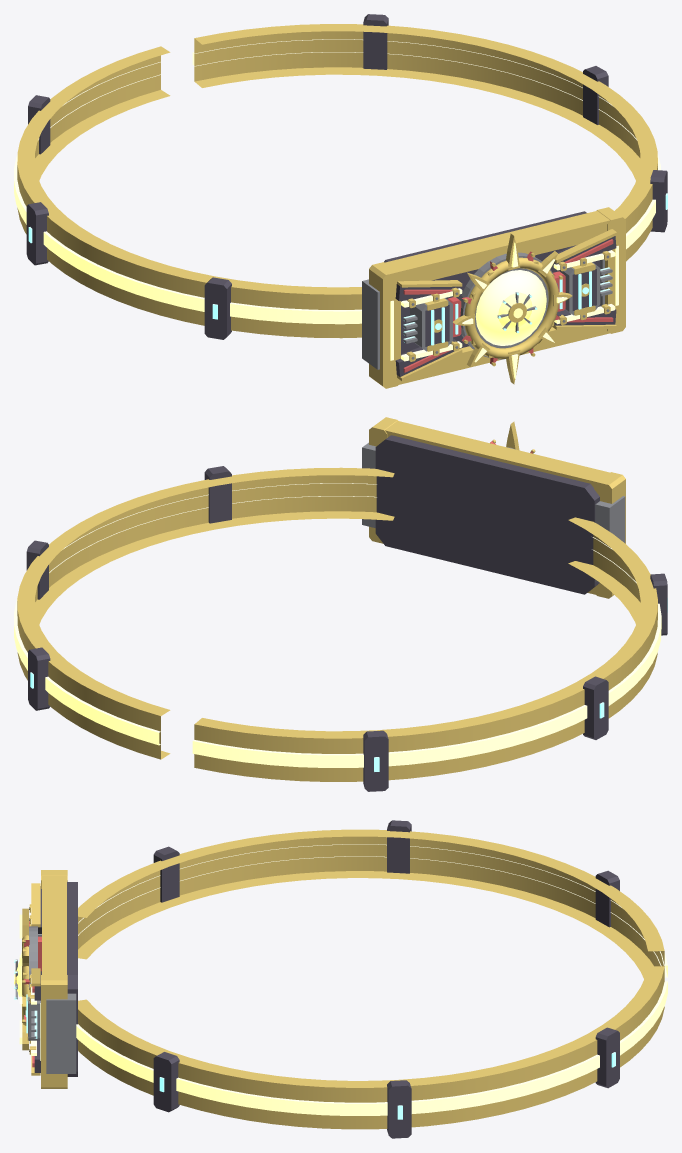
Rendered from solar_driver.glb.
The picture shows the model from 3 angles, top to bottom: view 1: azimuth 30°, elevation 25°; view 2: azimuth 150°, elevation 25°; view 3: azimuth 270°, elevation 25°; orthographic projection. The views are drawn at different scales.
Parts seen in each view (by area): view 1: DriverBuckle, BeltStrap_Left, BeltStrap_Right; view 2: DriverBuckle, BeltStrap_Right, BeltStrap_Left; view 3: BeltStrap_Left, BeltStrap_Right, DriverBuckle.
Boxes of the visible parts, left/top/right/bottom form: DriverBuckle: left=362, top=207, right=625, bottom=388; BeltStrap_Left: left=192, top=14, right=667, bottom=261; BeltStrap_Right: left=14, top=46, right=361, bottom=339; DriverBuckle: left=362, top=417, right=625, bottom=598; BeltStrap_Right: left=192, top=517, right=667, bottom=791; BeltStrap_Left: left=14, top=466, right=394, bottom=759; BeltStrap_Left: left=76, top=966, right=667, bottom=1138; BeltStrap_Right: left=78, top=820, right=667, bottom=978; DriverBuckle: left=14, top=870, right=77, bottom=1088.
Bounding box in the file's own units: 15.19 × 3.76 × 15.72.
